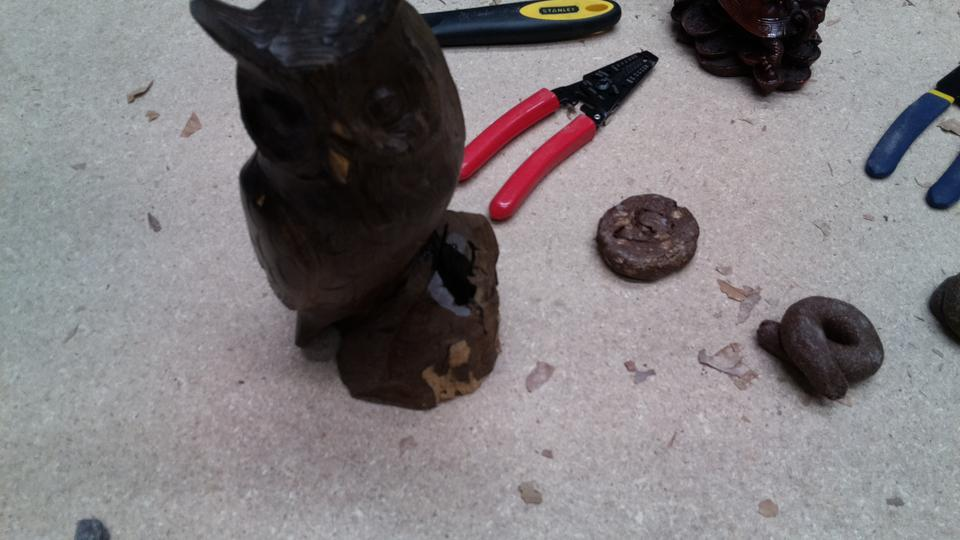poop: (754, 293, 887, 407), (593, 189, 702, 289), (927, 267, 960, 358)
